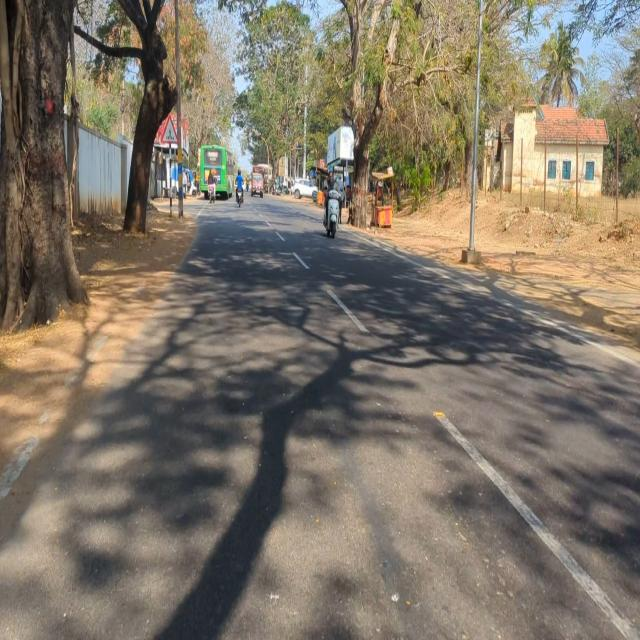bien_cam: (160, 114, 180, 146)
